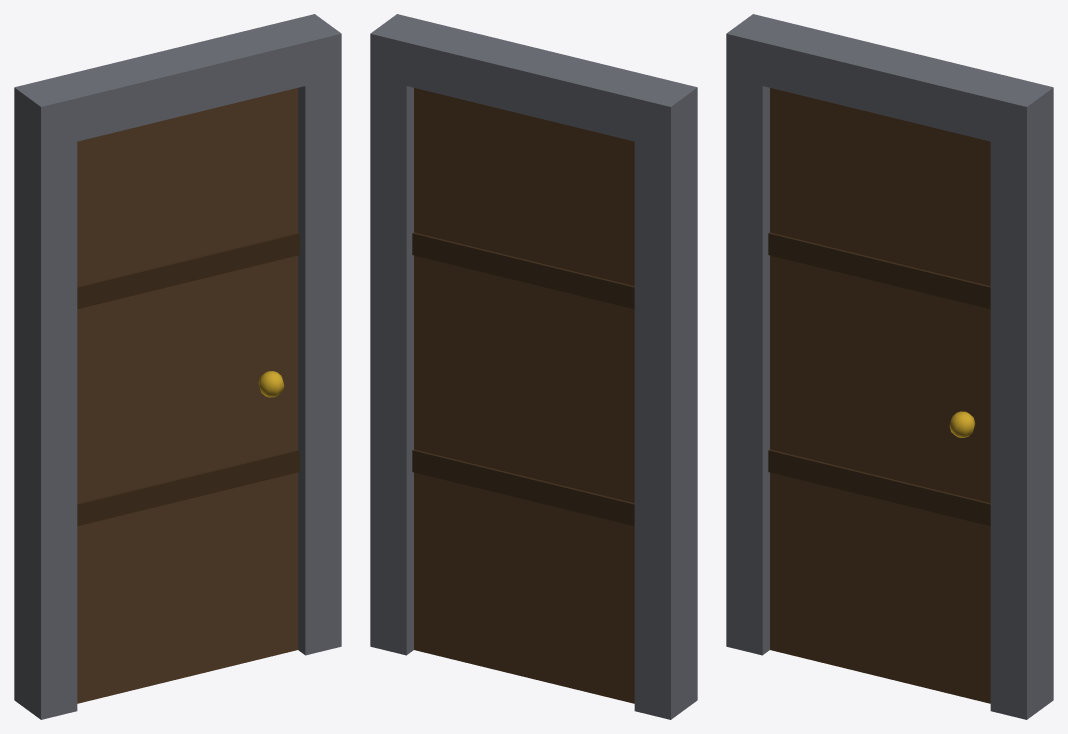
File: door.glb
3 views of the same model, side by side, from view 1: azimuth 30°, elevation 25°; view 2: azimuth 150°, elevation 25°; view 3: azimuth 330°, elevation 25° (orthographic).
Size of the model in its own units: 1.16 by 2.26 by 0.205.
